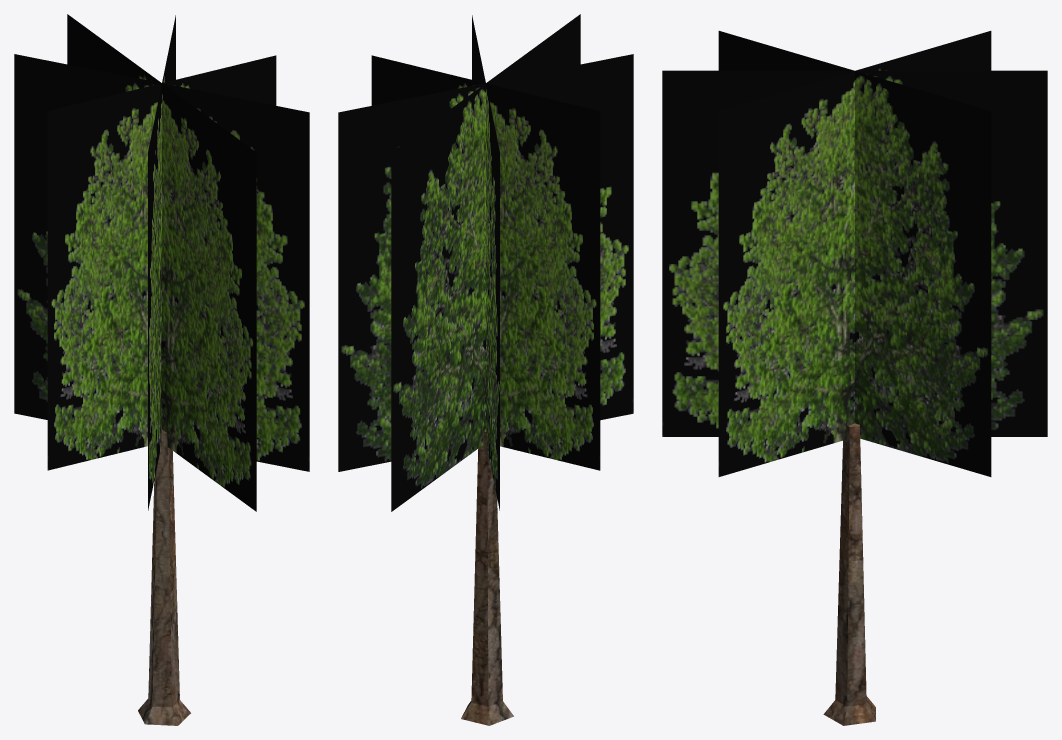
The model's file is Tree4.fbx.
3 views of the same model, side by side, from view 1: azimuth 30°, elevation 25°; view 2: azimuth 150°, elevation 25°; view 3: azimuth 270°, elevation 25° (orthographic).
Visible parts, largest first — view 1: Tree; view 2: Tree; view 3: Tree.
Boxes of the visible parts, <box> form: Tree: <box>14,14,309,725</box>; Tree: <box>338,14,633,725</box>; Tree: <box>662,31,1047,725</box>.
Bounding box in the file's own units: 300 × 430 × 792.
Materials: 2 (2 with a texture image).
